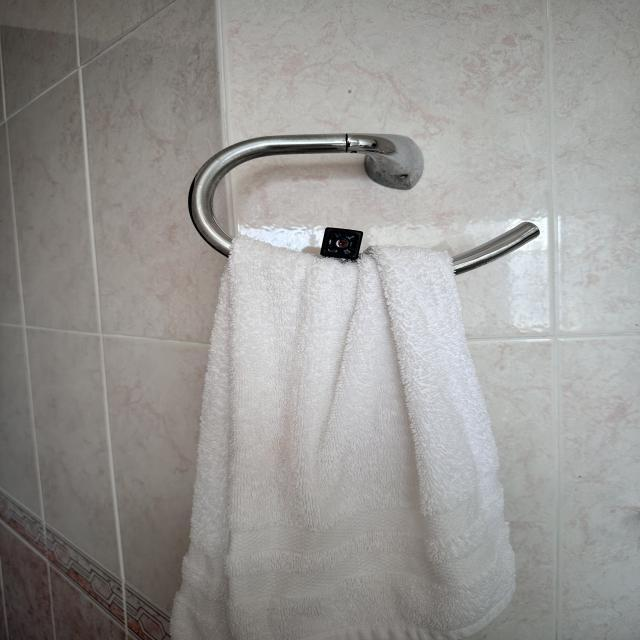hidden camera: (334, 237, 351, 250)
